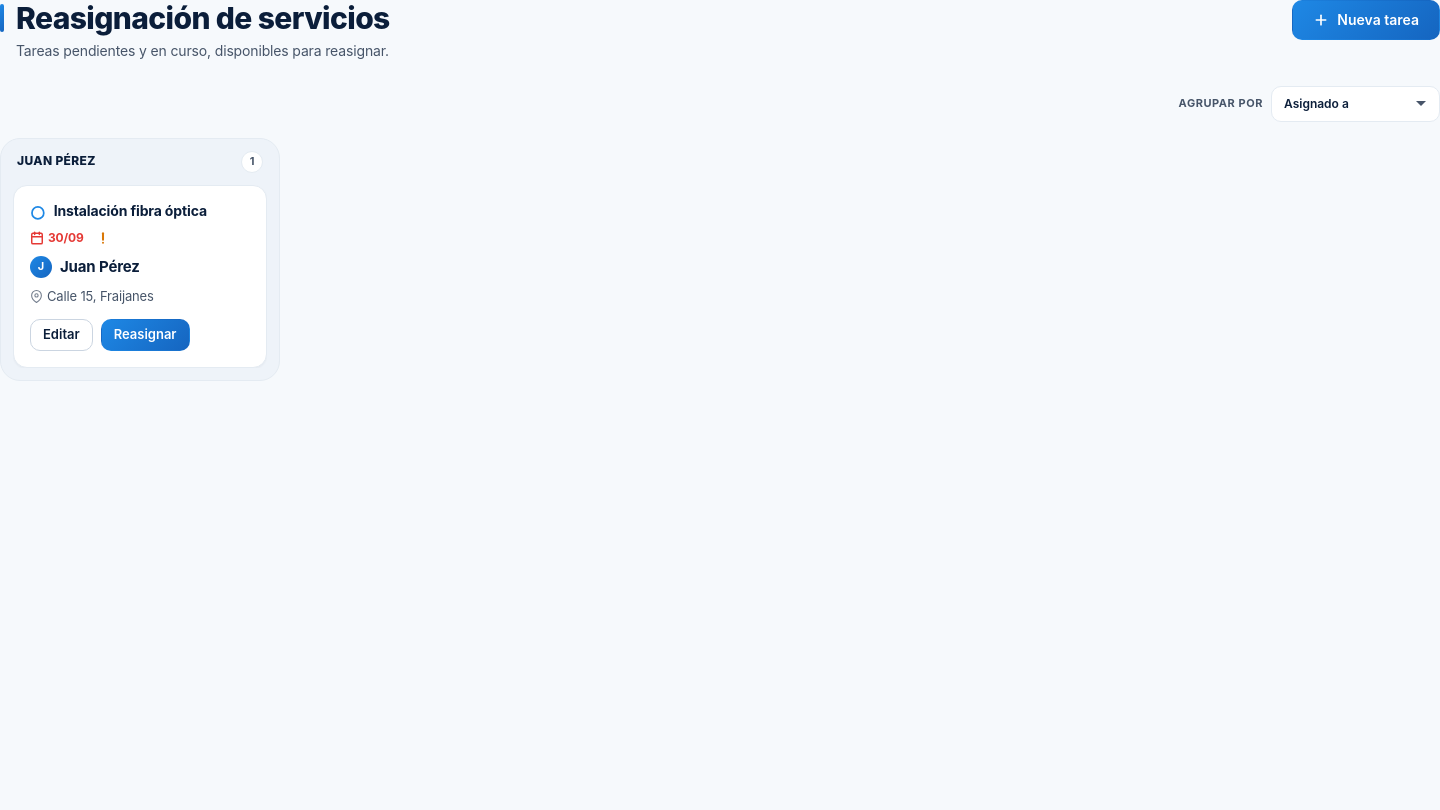
ReasignacionPage — cambio de técnico › el modal dice quién tiene la tarea ahora
Step 1. Click the button "Reasignar" → coordinates (145, 335), box [101,319,190,351]
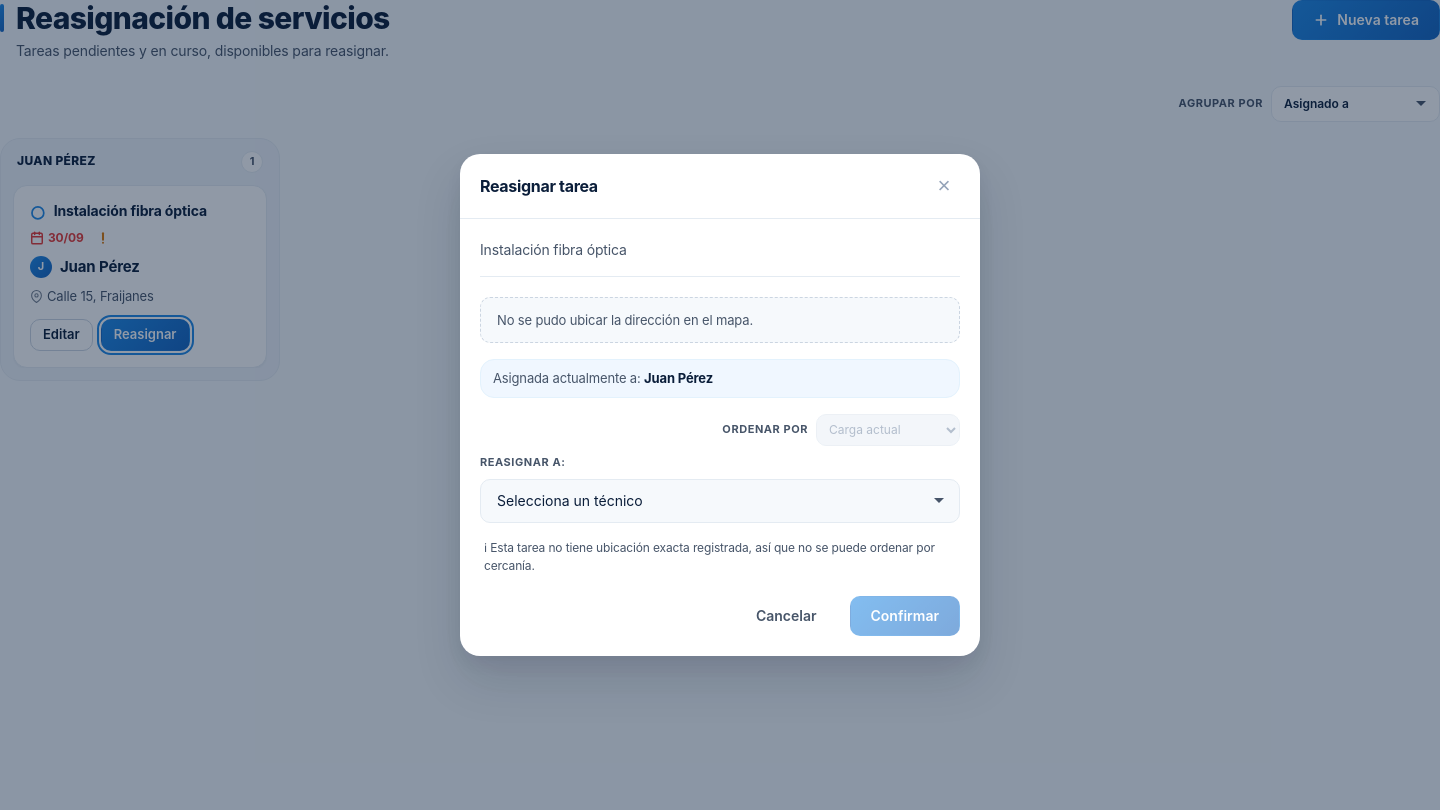
Expected: the dropdown labelled "Reasignar a:" is shown, [480,479,960,523]
Expected: the text "Asignada actualmente a: Juan Pérez" is shown, [480,359,960,398]
